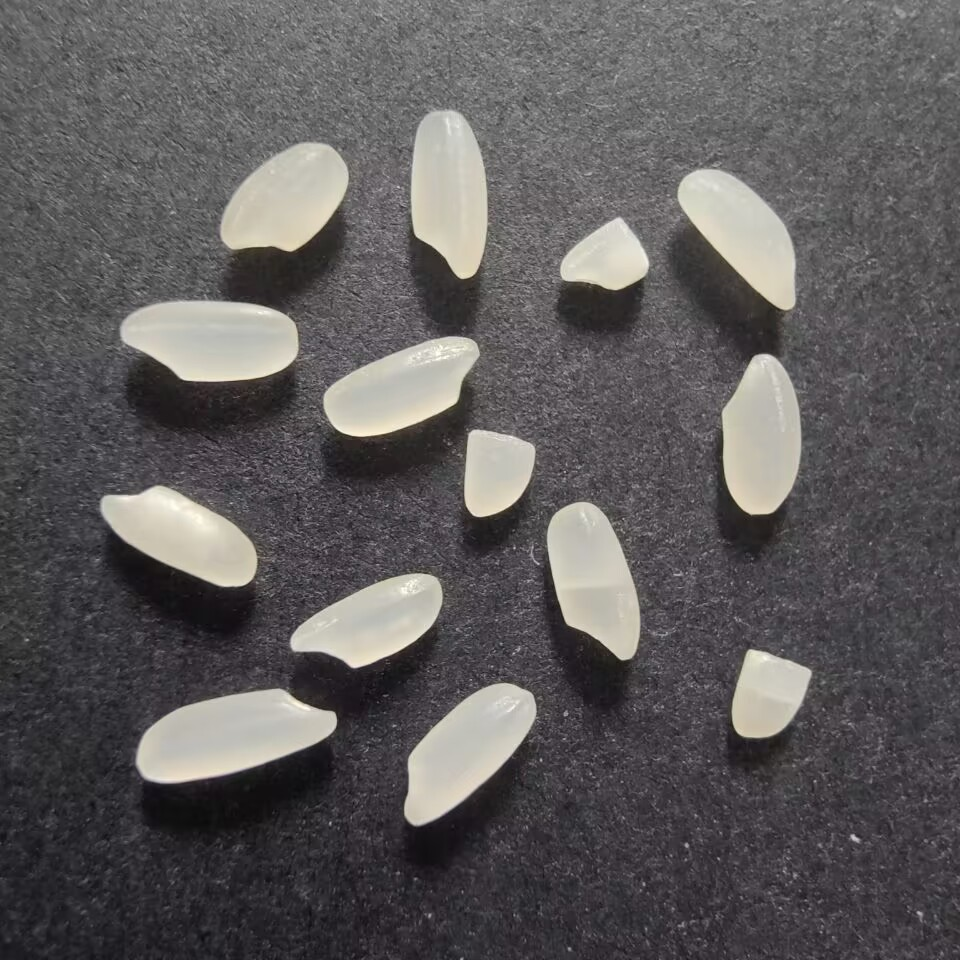broken: (721, 644, 817, 742), (452, 424, 542, 527), (554, 213, 653, 297)
rice: (131, 678, 342, 793), (398, 676, 542, 830), (89, 480, 266, 596), (673, 163, 803, 313), (319, 331, 484, 438), (542, 496, 644, 668), (287, 567, 446, 674), (211, 137, 353, 256), (114, 297, 304, 385), (405, 104, 494, 288), (713, 348, 803, 524)
